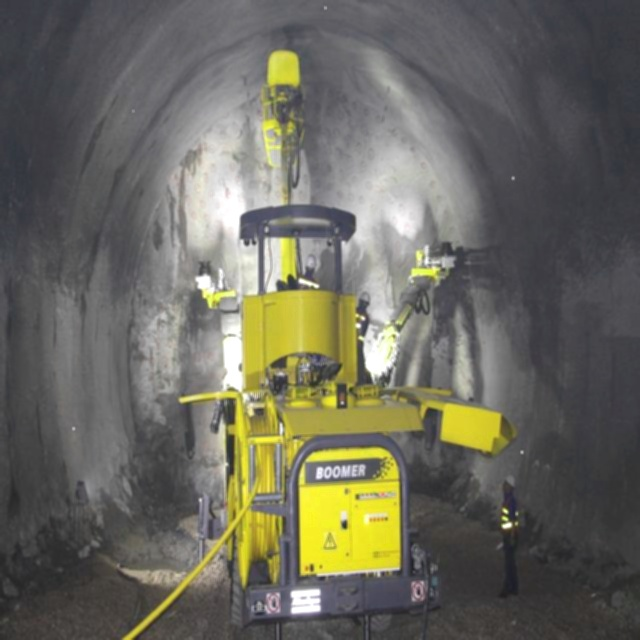Con_Casco: (304, 254, 316, 275)
Con_Chaleco: (501, 494, 518, 540), (355, 306, 368, 343)
